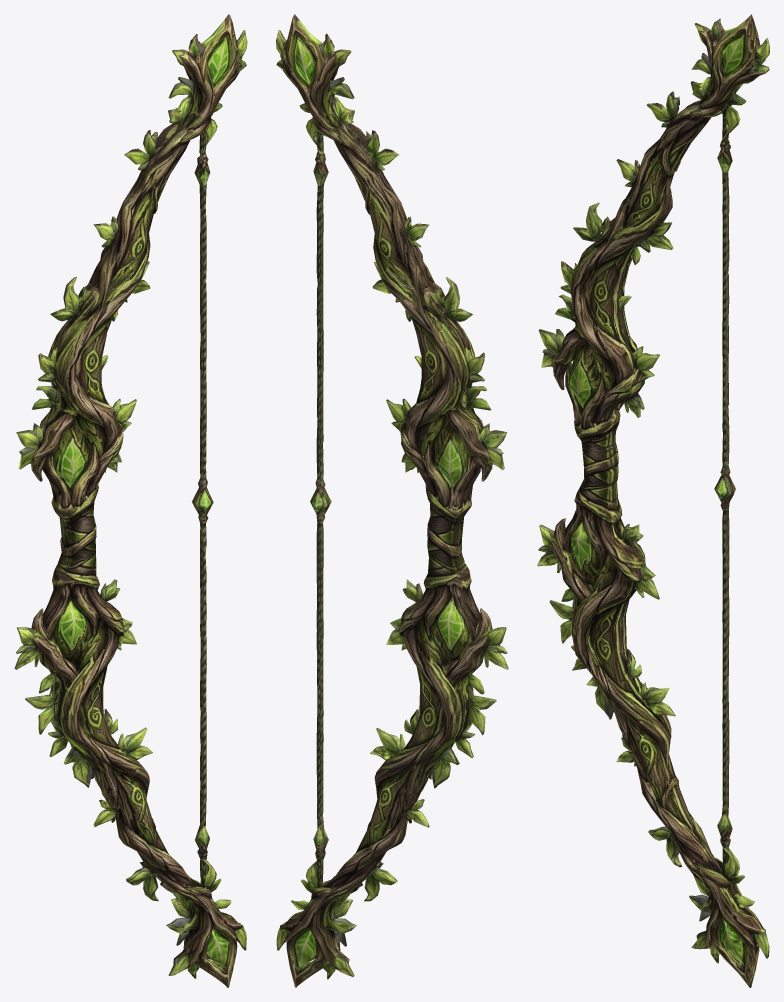
File: bow-forest.glb
3 views of the same model, side by side, from view 1: azimuth 30°, elevation 25°; view 2: azimuth 150°, elevation 25°; view 3: azimuth 330°, elevation 25° (orthographic).
Visible parts, largest first — view 1: Motion_Control; view 2: Motion_Control; view 3: Motion_Control.
Boxes of the visible parts, <box> form: Motion_Control: <box>14,14,247,987</box>; Motion_Control: <box>276,14,508,987</box>; Motion_Control: <box>537,14,769,987</box>.
Bounding box in the file's own units: 0.4728 × 1.9 × 0.0855.
1 material, 1 textured.
